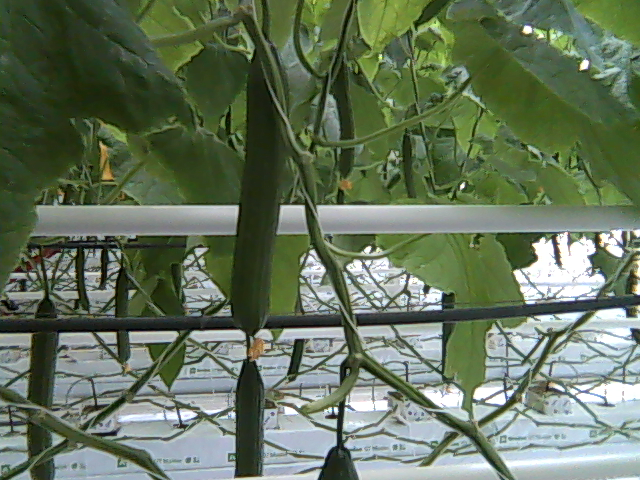concombre: (225, 30, 294, 360), (232, 352, 270, 480), (312, 440, 365, 480)
